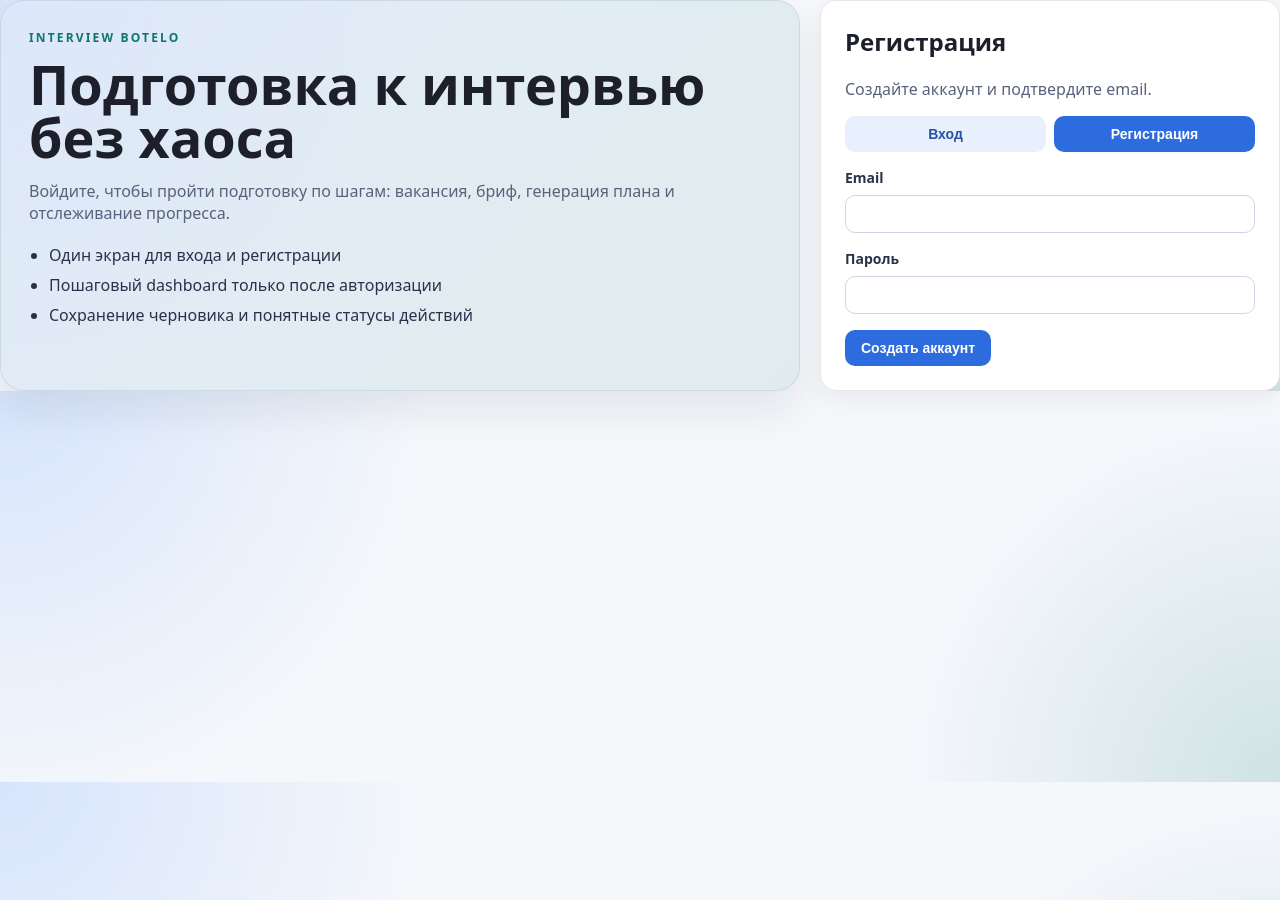
Test: auth flow › регистрирует и возвращает в режим входа
Type "new@test.com" into the field labelled "Email" at (1050, 214), box [845,195,1255,233]
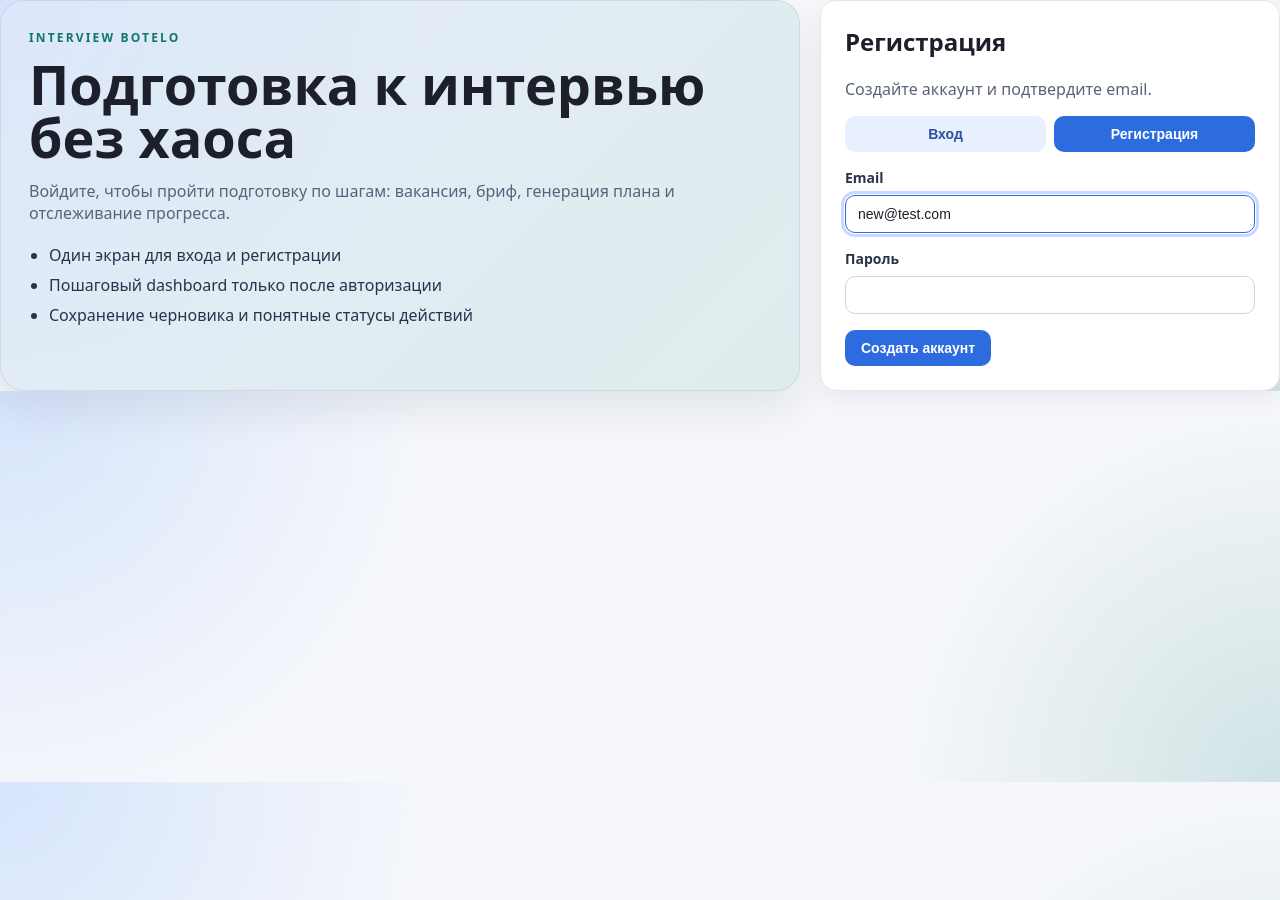
Type "secret" into the password field labelled "Пароль" at (1050, 295), box [845,276,1255,314]
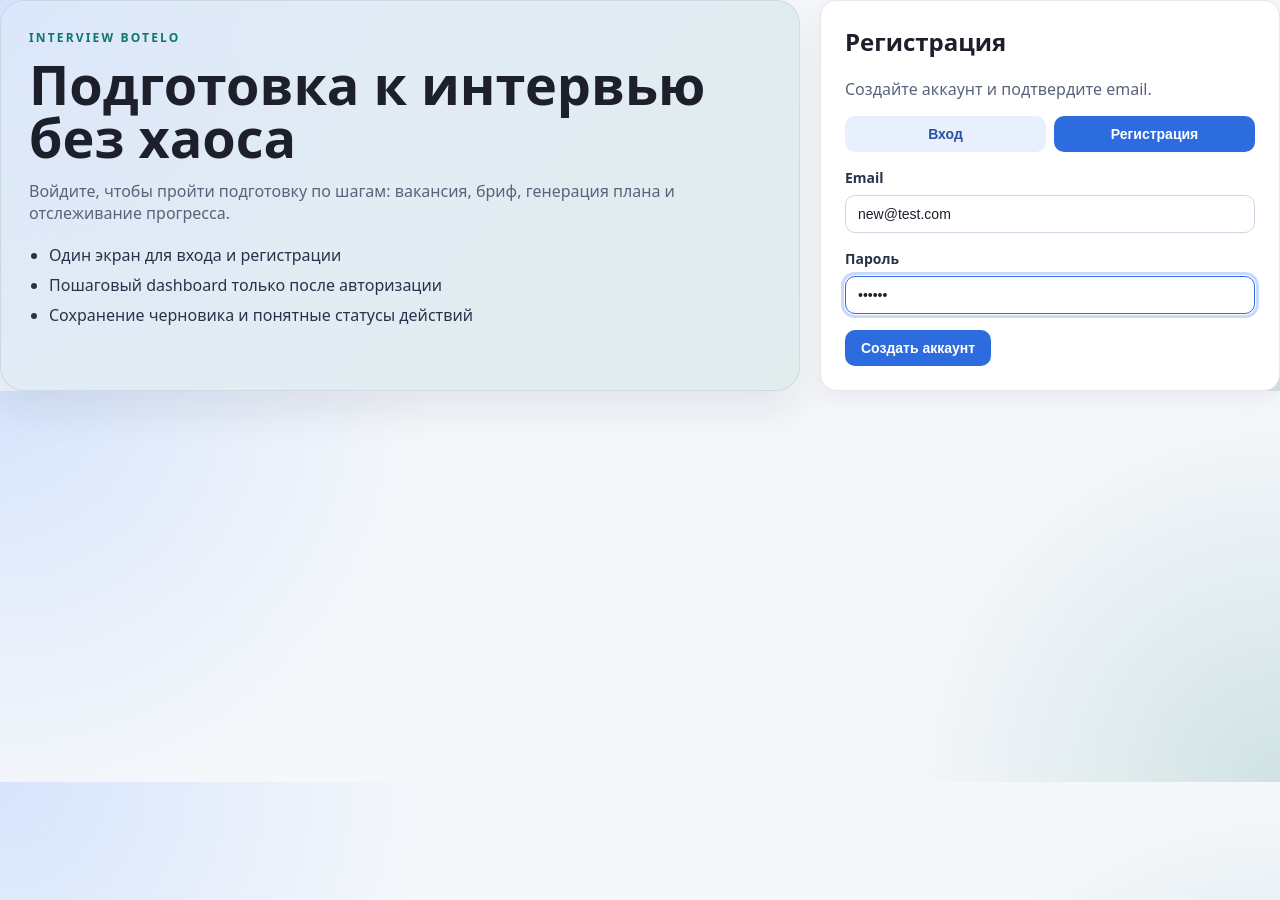
Click the button "Создать аккаунт" at (918, 348), box [845,330,991,366]
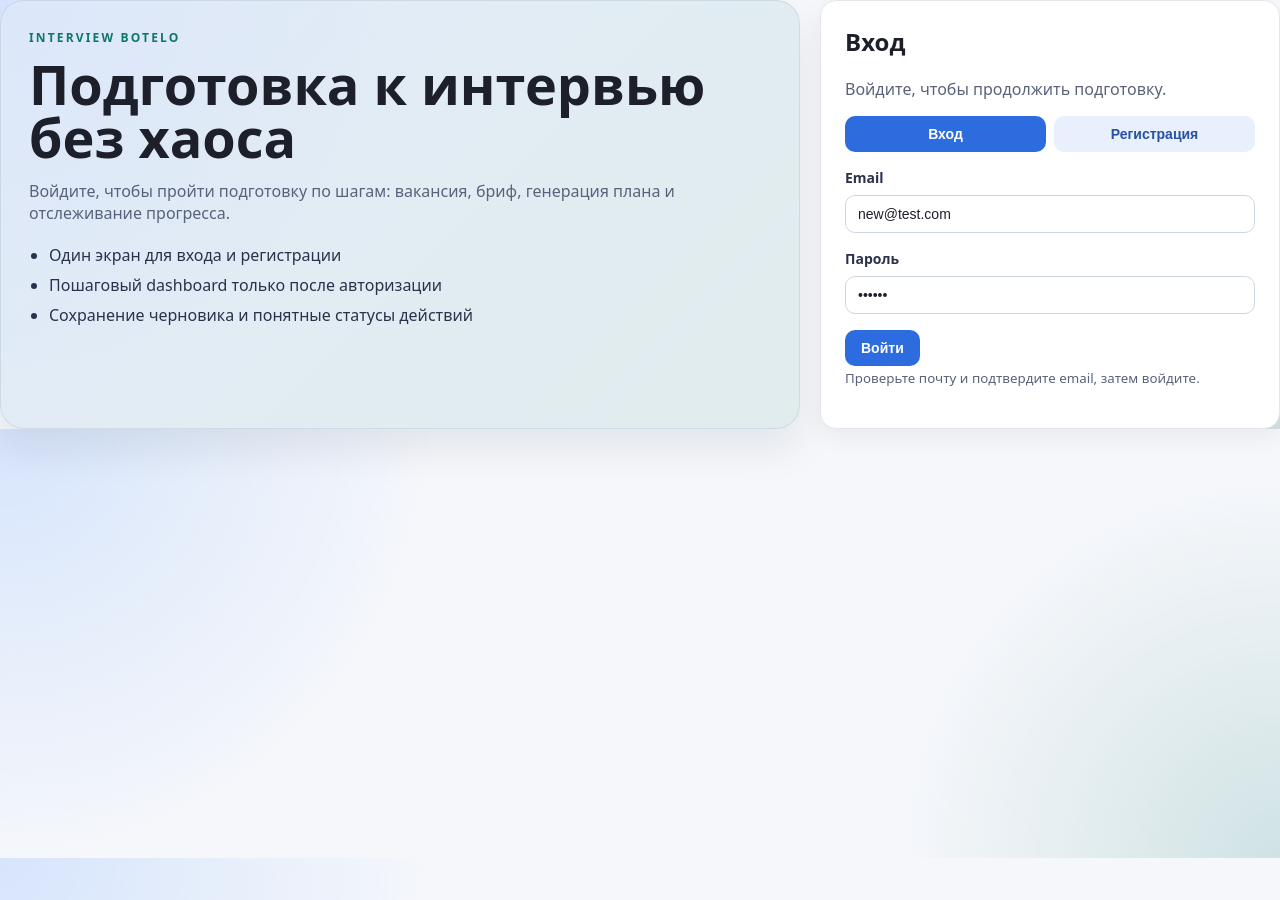
Check: the heading "Вход" is shown, box [845,25,905,58]
